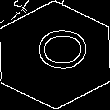O_W: (25, 33, 85, 77)
